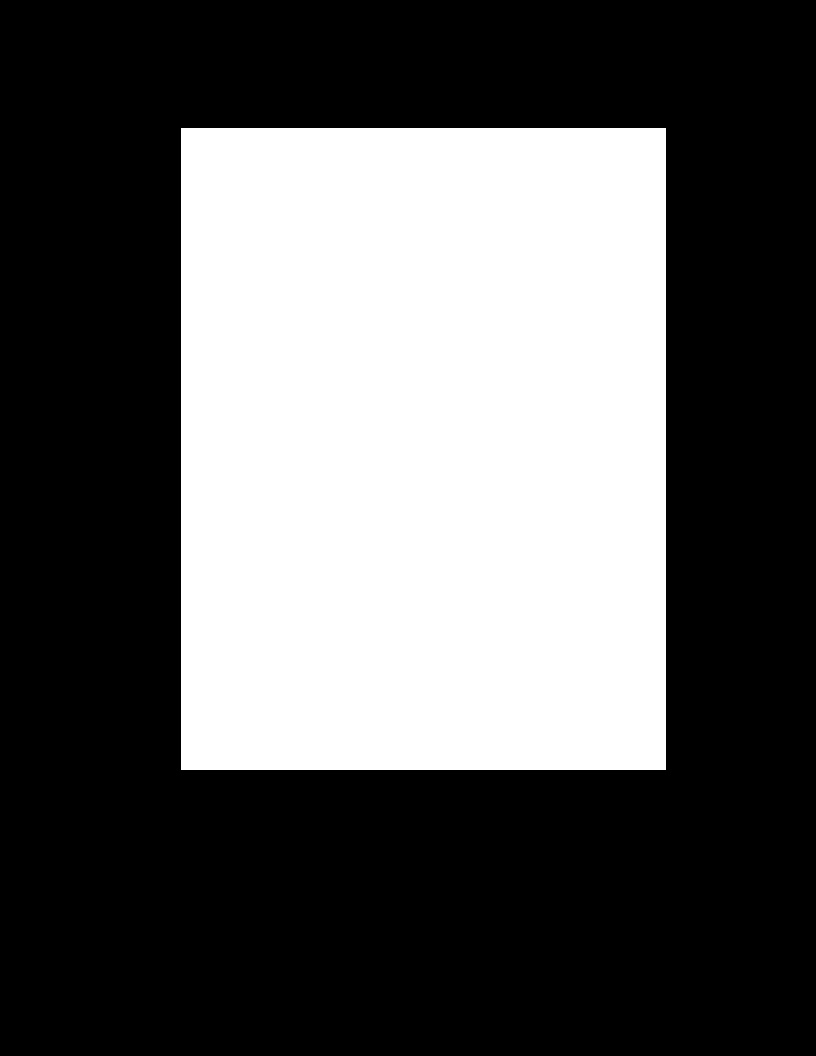table: (181, 128, 665, 769)
